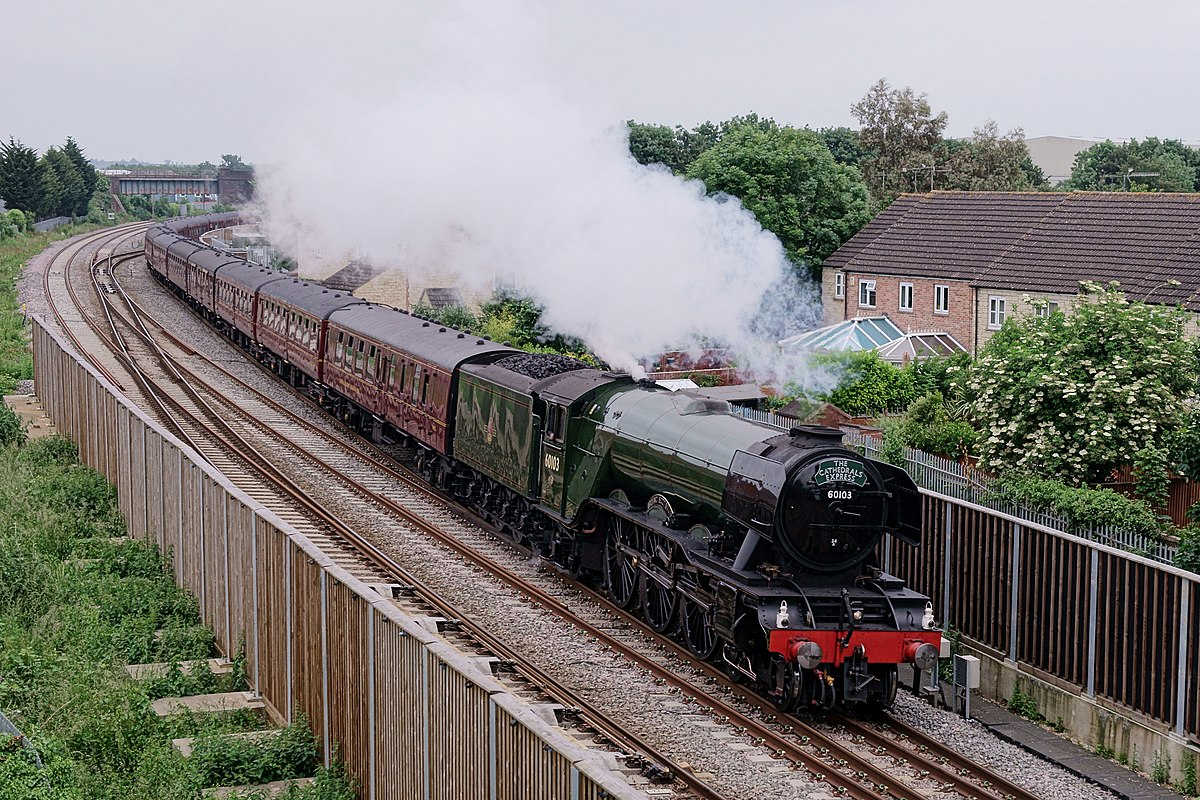train: (138, 224, 943, 721)
